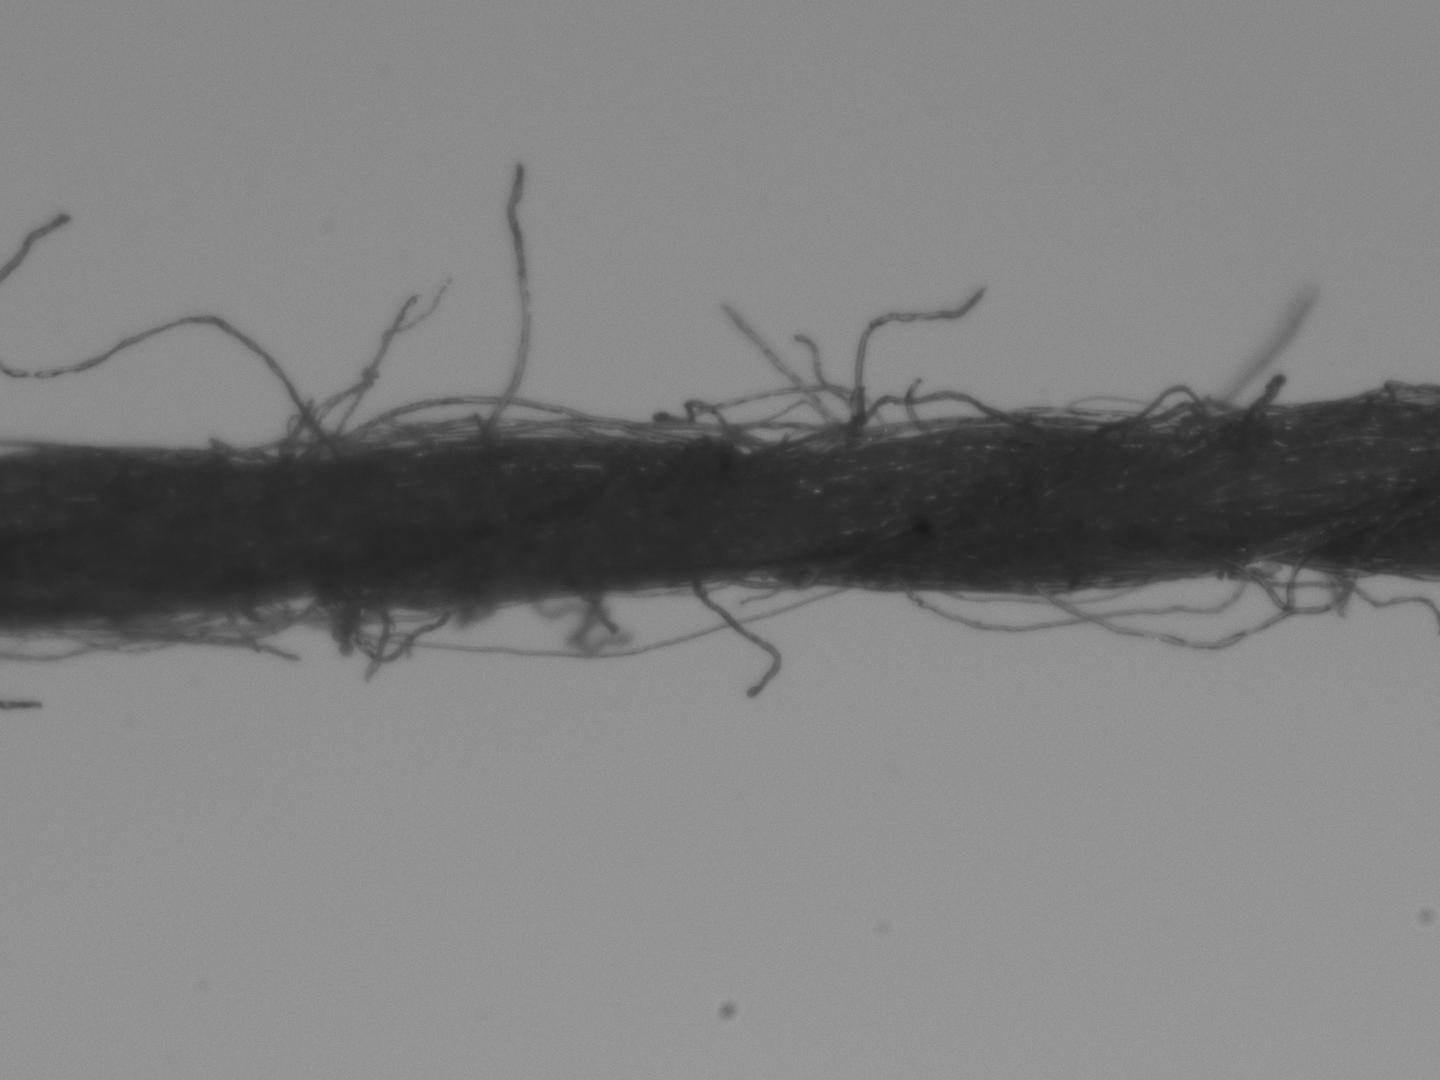loop_fiber: (896, 568, 1239, 633), (344, 395, 676, 445), (53, 592, 308, 647), (315, 593, 451, 660), (840, 388, 1008, 436), (723, 400, 833, 455), (1240, 559, 1348, 615), (1112, 381, 1228, 431), (217, 439, 305, 467), (729, 572, 806, 593)
protruding_fiber: (847, 285, 991, 430), (483, 164, 531, 442), (688, 580, 782, 706)
